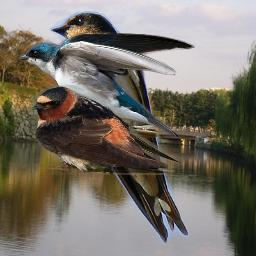Swallow: (49, 11, 189, 243), (18, 30, 195, 139), (31, 85, 183, 175)
